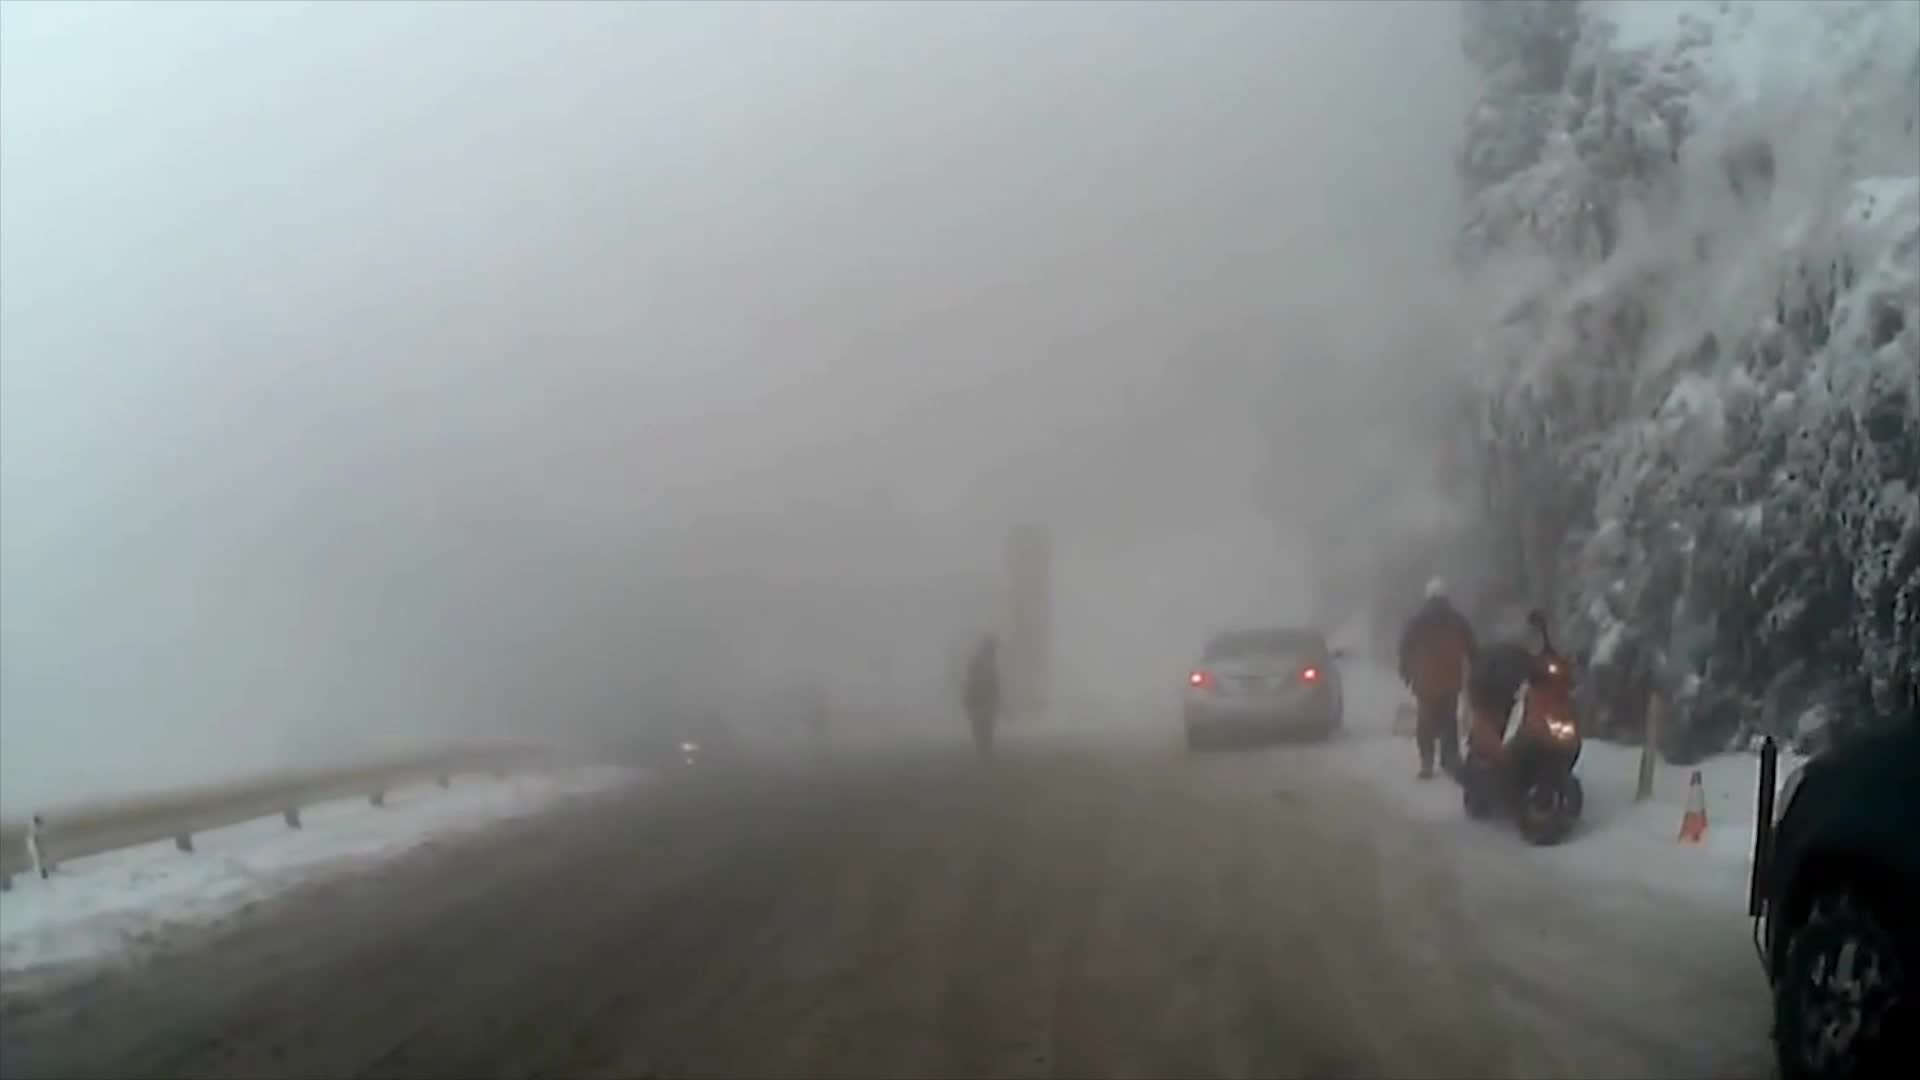pedestrian: (1400, 567, 1489, 783), (961, 636, 1003, 771)
vehicle: (1744, 639, 1918, 1079), (1179, 622, 1347, 753)
